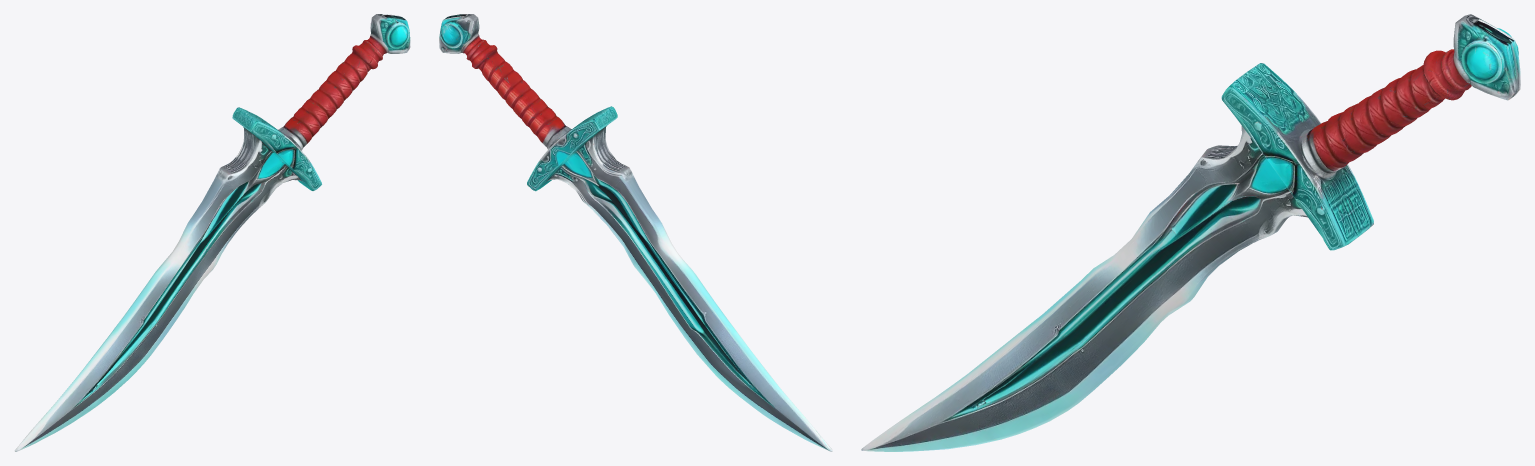
Rendered from kraken_dagger.glb.
3 views of the same model, side by side, from view 1: azimuth 30°, elevation 25°; view 2: azimuth 150°, elevation 25°; view 3: azimuth 330°, elevation 25° (orthographic). The views are drawn at different scales.
Parts seen in each view (by area): view 1: Mesh1.0; view 2: Mesh1.0; view 3: Mesh1.0.
Boxes of the visible parts, box(x1,y1,x2,y2) form: Mesh1.0: box(14, 14, 410, 451); Mesh1.0: box(439, 14, 832, 451); Mesh1.0: box(861, 14, 1520, 451).
Bounding box in the file's own units: 1.82 × 1.54 × 0.1674.
Materials: 1 (1 with a texture image).
